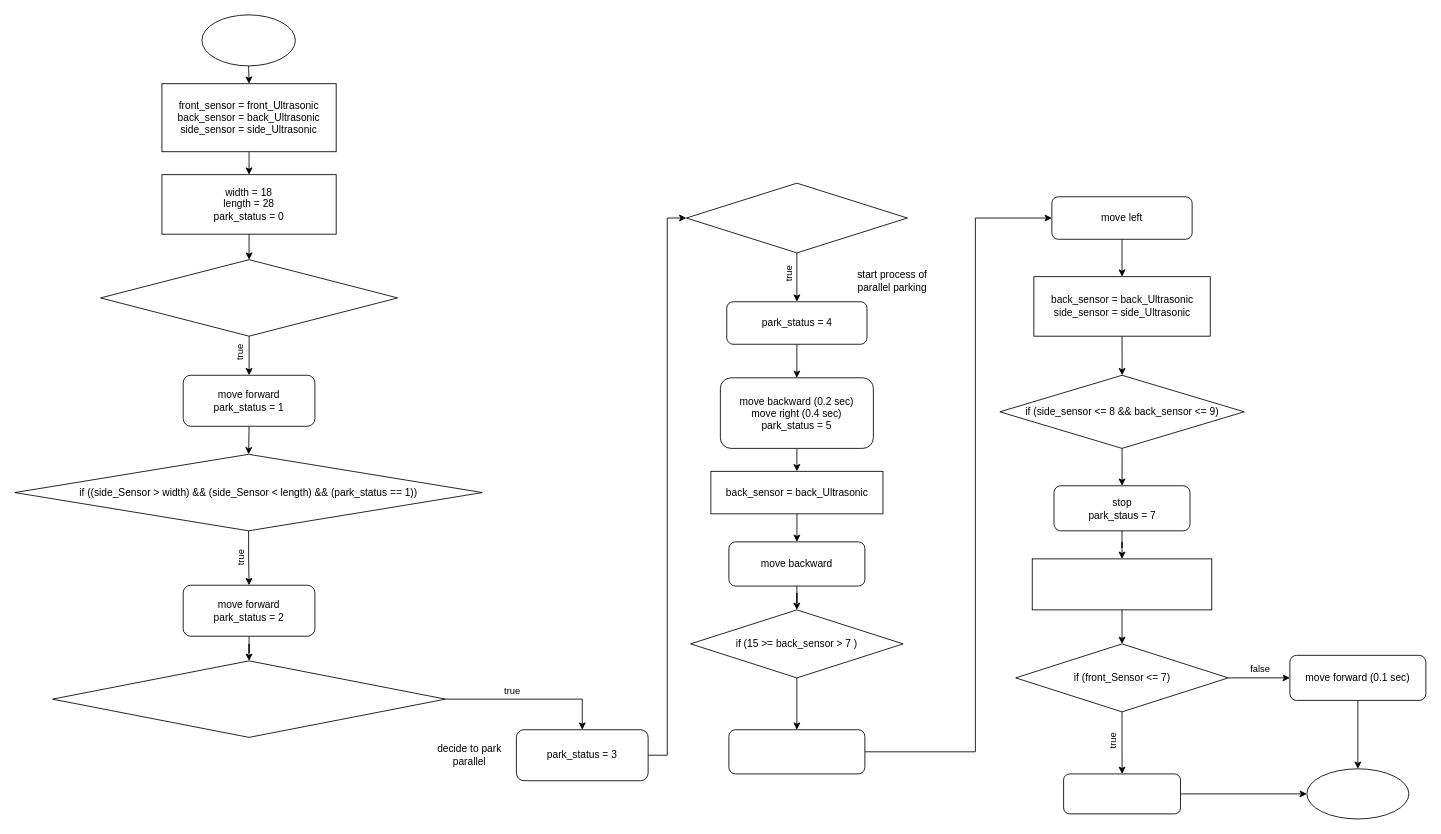
This 1441x834 diagram has some shape labels left out. The shapes that lost their labels are listed below. From the top down, each one's centre as x and y in pixels, then its label:
At point (248, 40): "start".
At point (796, 217): "if (park_status == 3)".
At point (249, 297): "if (( side_sensor <= width) && (park_status == 0))".
At point (1121, 584): "front_sensor = front_Ultrasonic".
At point (249, 698): "if ((side_Sensor <= width) && (park_status == 2))".
At point (796, 751): "stop park_status = 6".
At point (1121, 793): "park_staus = 8".
At point (1357, 793): "stop".
